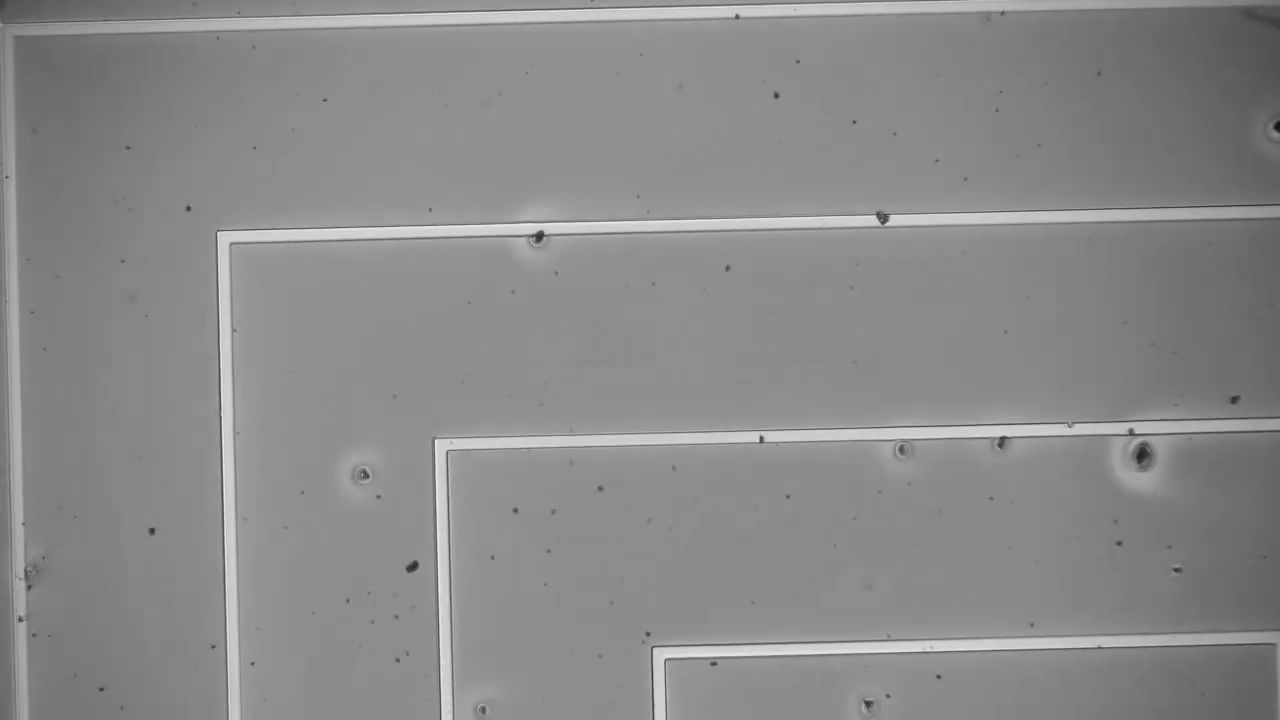edge_bite: (1062, 417, 1077, 440)
stains_enbedded: (525, 213, 553, 249), (867, 204, 896, 235), (1121, 414, 1144, 440), (753, 424, 769, 451)
